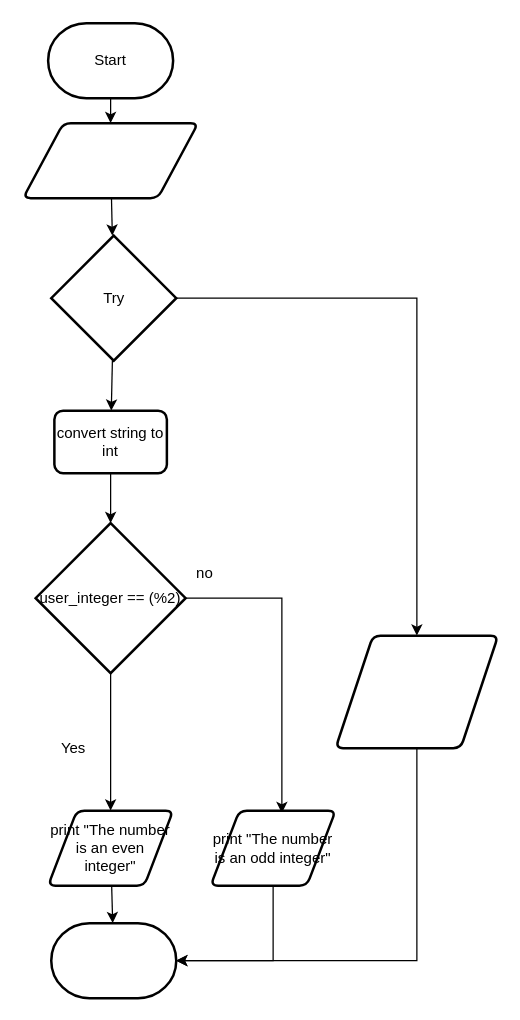
Some shapes in this 520 by 1020 pixel diagram are drawn without their labels. Here are the shapes that lost their labels. From the top down, the centre of each, then its label:
(110,160): Get user_integer
(416,691): print "Invalid Integer, not accepted."
(113,960): Stop
